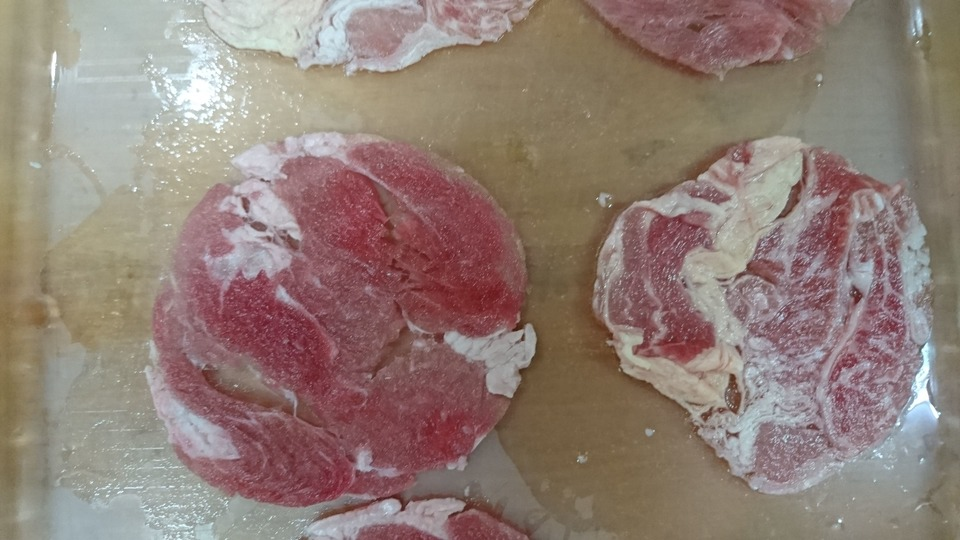restructured meat: (148, 122, 549, 496), (584, 119, 945, 485), (178, 2, 554, 74), (578, 4, 860, 80), (288, 501, 535, 540)
